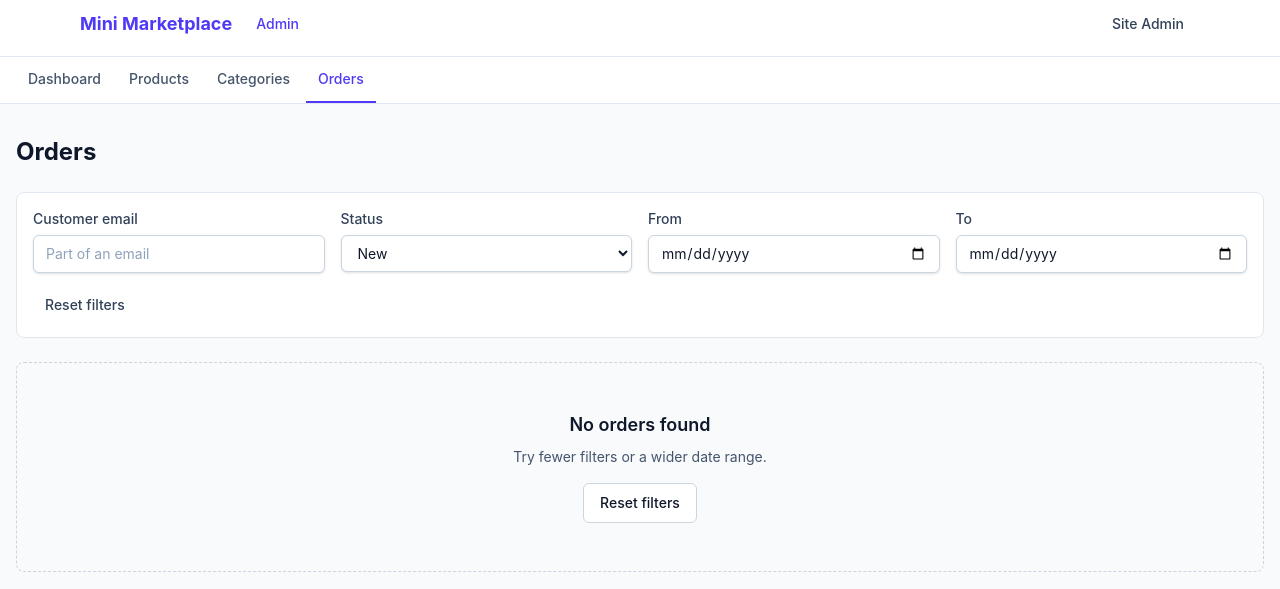
it: the admin order table › distinguishes "no orders yet" from "none match the filters"
The width and height of the screenshot is (1280, 589).
Expected: the heading "No orders found" is shown, 569,411 -> 710,439
Step 1. Click the button "Reset filters" below "Try fewer filters or a wider date range." → (640, 503), box 583,483 -> 697,523
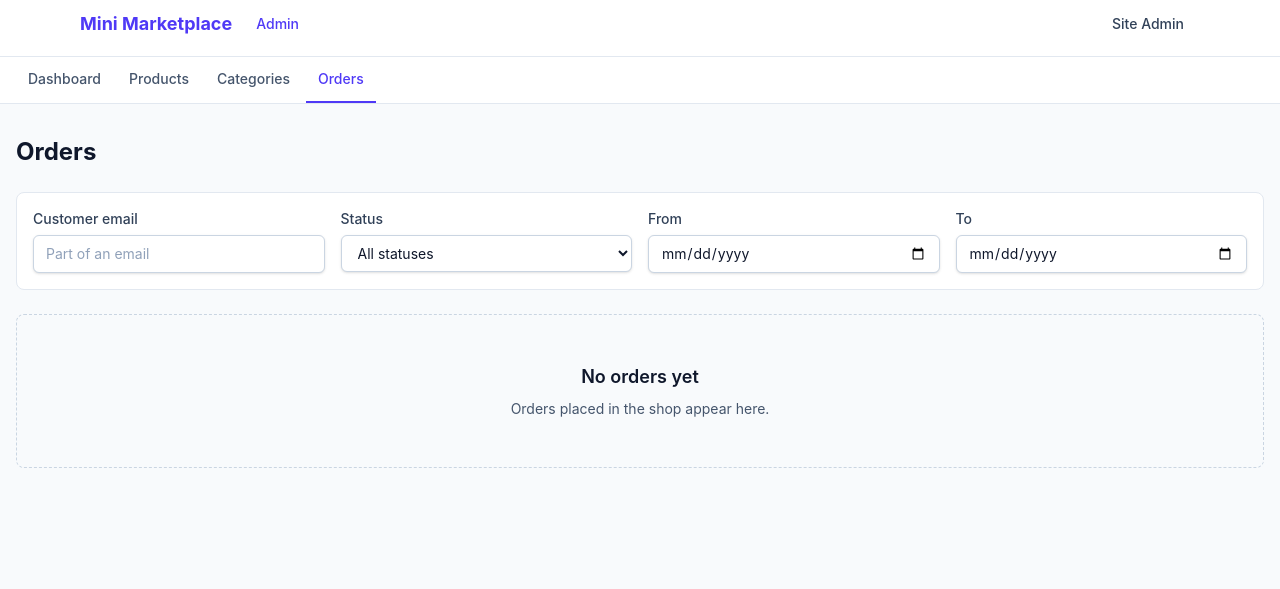
Now the heading "No orders yet" is shown, box 581,363 -> 699,391
